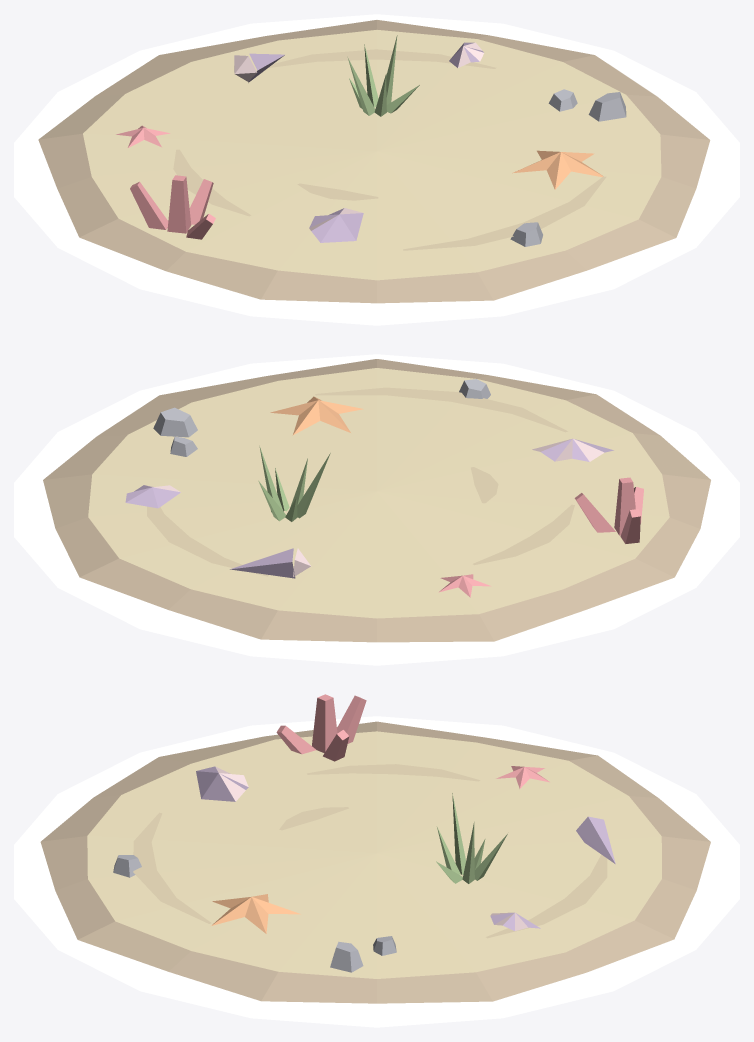
File: prop_tide_island.glb
3 renders of one model, top to bottom at view 1: azimuth 30°, elevation 25°; view 2: azimuth 150°, elevation 25°; view 3: azimuth 270°, elevation 25°, orthographic.
Visible parts, largest first — view 1: prop_tide_island; view 2: prop_tide_island; view 3: prop_tide_island.
Part boxes in pixels (x1=…): prop_tide_island: x1=14, y1=14, x2=739, y2=325; prop_tide_island: x1=14, y1=354, x2=739, y2=665; prop_tide_island: x1=14, y1=694, x2=739, y2=1027.
Size of the model in its own units: 5 by 0.628 by 4.92.
